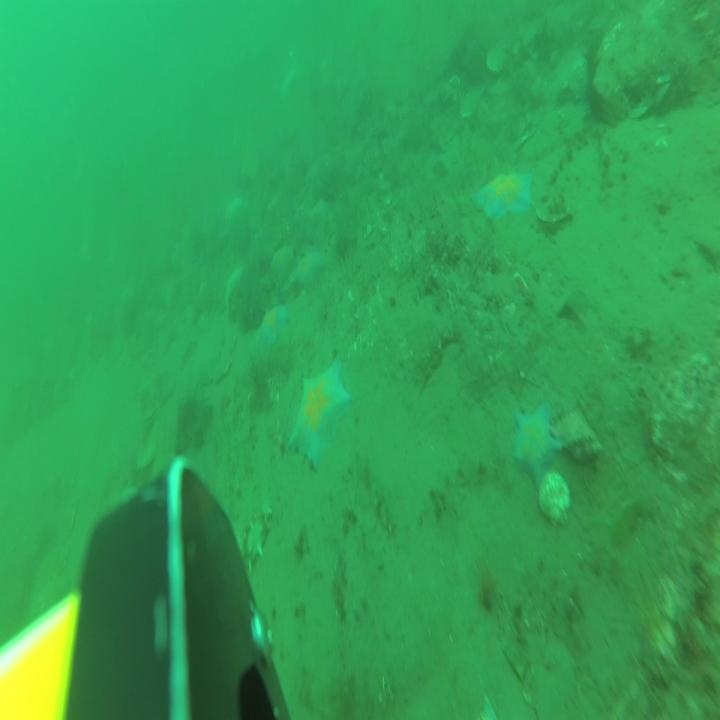echinus: (591, 84, 612, 127), (585, 43, 606, 82)
holothurian: (233, 502, 272, 592)
scallop: (541, 472, 572, 525), (213, 354, 234, 384), (487, 44, 507, 74), (137, 439, 156, 470)
starfish: (288, 351, 350, 471), (514, 401, 560, 493), (476, 171, 534, 220), (254, 303, 289, 359), (292, 251, 326, 287), (270, 243, 294, 288), (311, 194, 335, 228), (224, 265, 243, 306)
